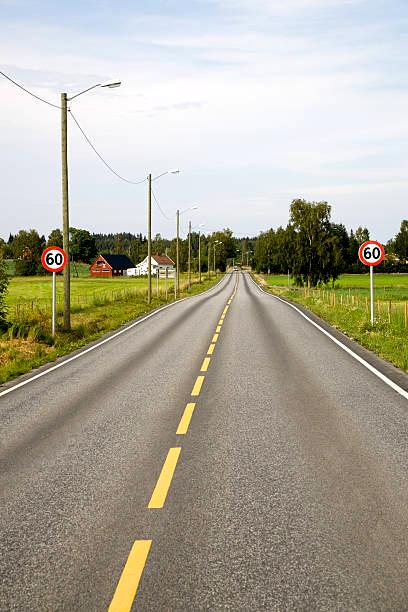Speed Limit -60-: (40, 245, 67, 272), (357, 240, 385, 266)
